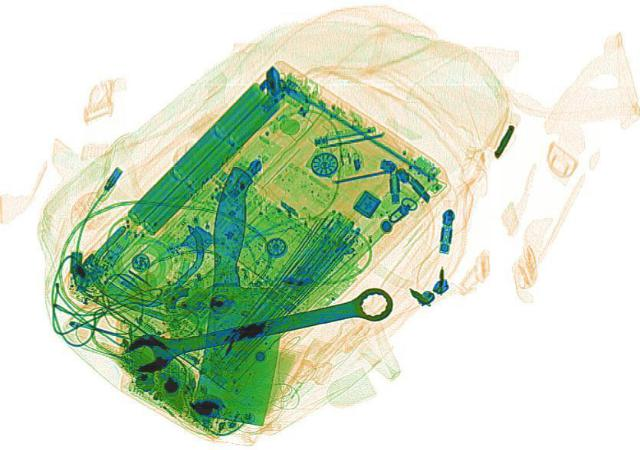Knife: (179, 164, 309, 424)
Wrench: (115, 279, 402, 372)
